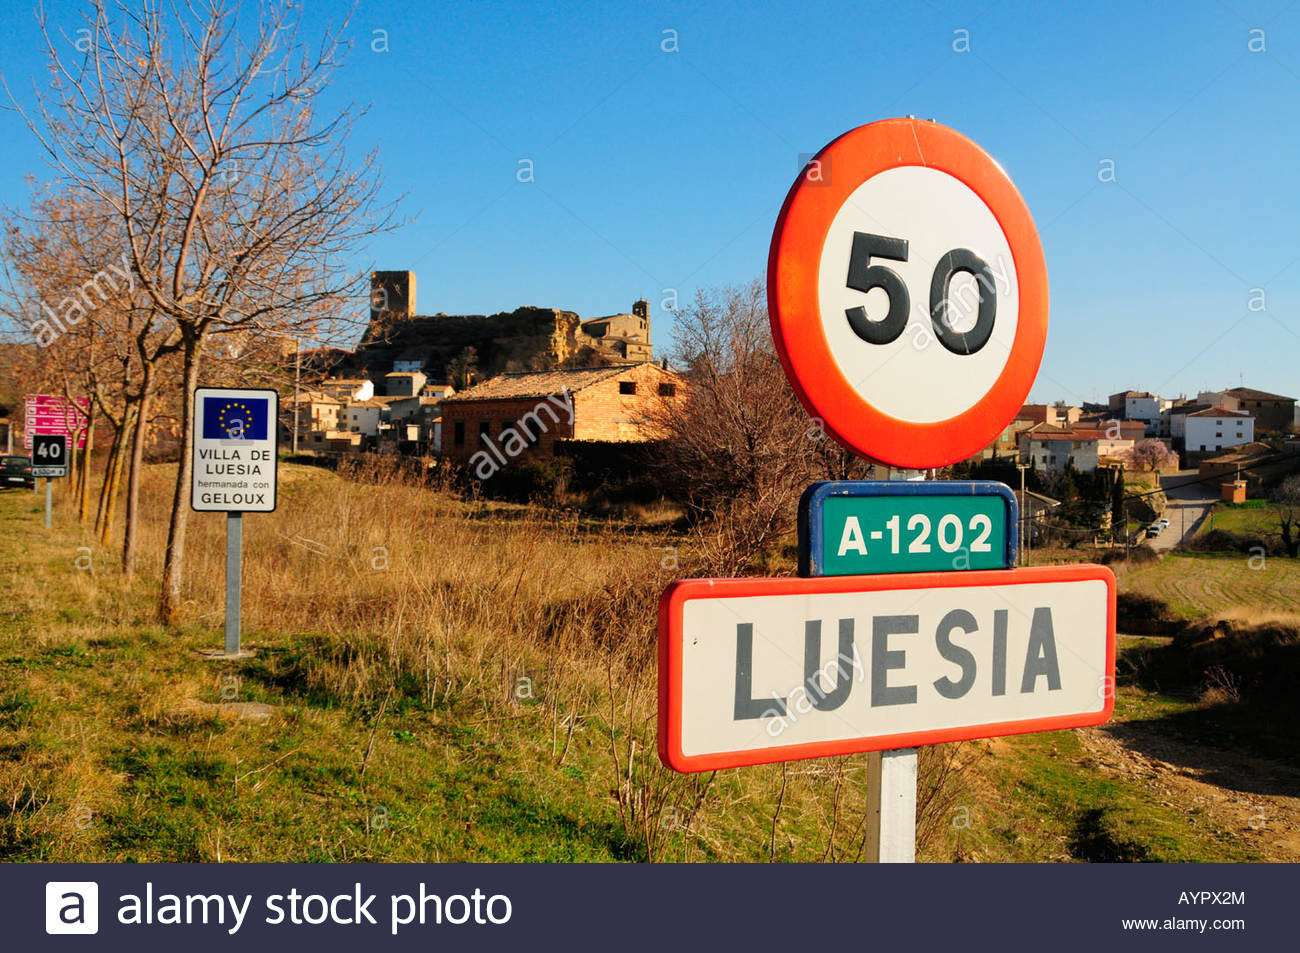speed_limit_50: (771, 116, 1049, 468)
